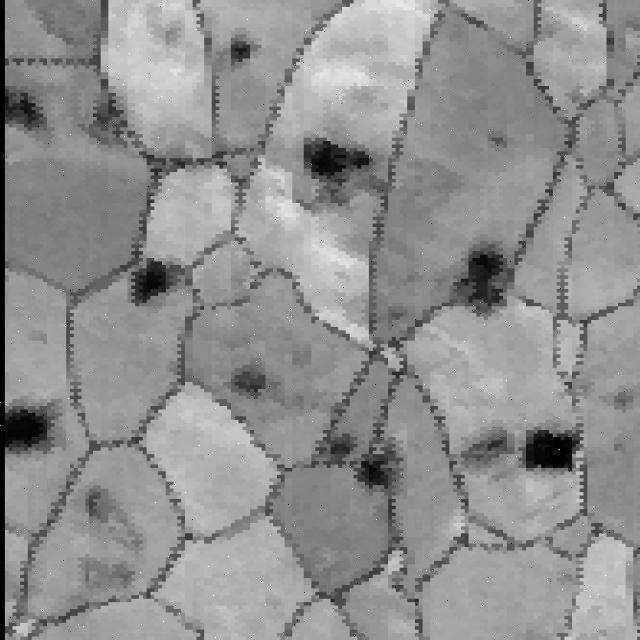good_void: (75, 489, 145, 587), (302, 140, 386, 208), (452, 251, 507, 314), (457, 424, 510, 482), (522, 431, 574, 475), (3, 398, 45, 448), (226, 367, 280, 401), (357, 438, 393, 487), (131, 259, 169, 302), (5, 84, 32, 134), (480, 123, 506, 153), (379, 304, 403, 328), (609, 387, 631, 412), (326, 435, 347, 461), (228, 36, 248, 61)
